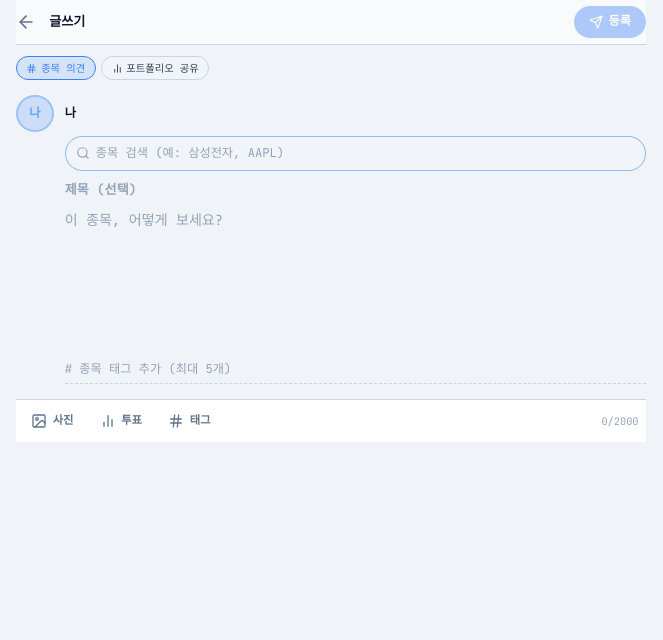
Test: 글쓰기 화면이 갖춰야 할 칸 › 투표를 켜면 질문과 선택지 칸이 나온다
Click the button with aria-label "투표 만들기". click: x=121, y=421
box: [88,406,153,437]
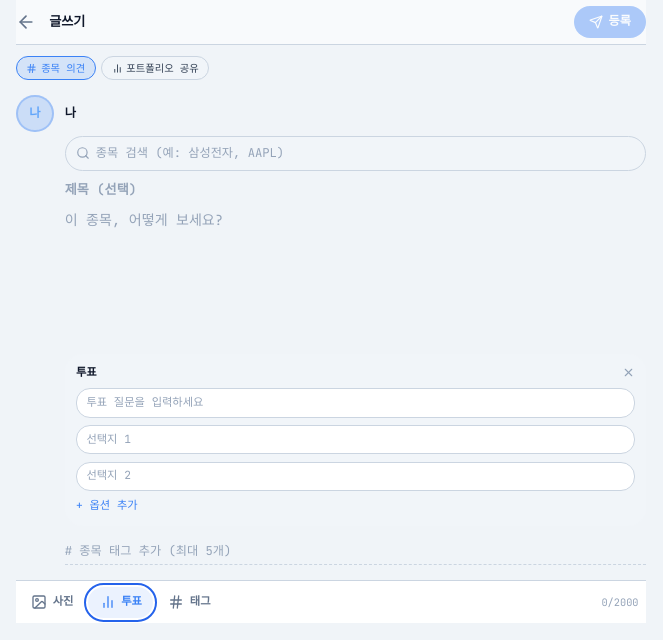
Now the field with placeholder "투표 질문을 입력하세요" is shown, box [76,388,635,418]
Now the field with placeholder "선택지 1" is shown, box [76,425,635,454]
Now the field with placeholder "선택지 2" is shown, box [76,462,635,491]
